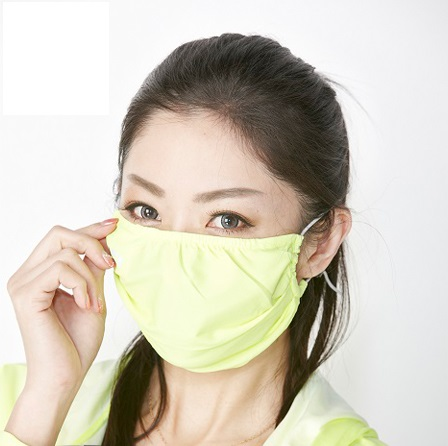face_mask: (112, 115, 294, 359)
